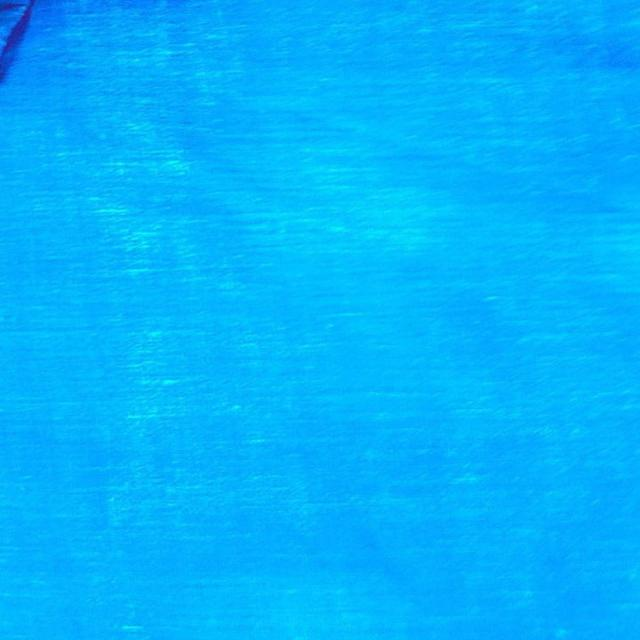color issues: (66, 4, 185, 578), (232, 151, 449, 250)
